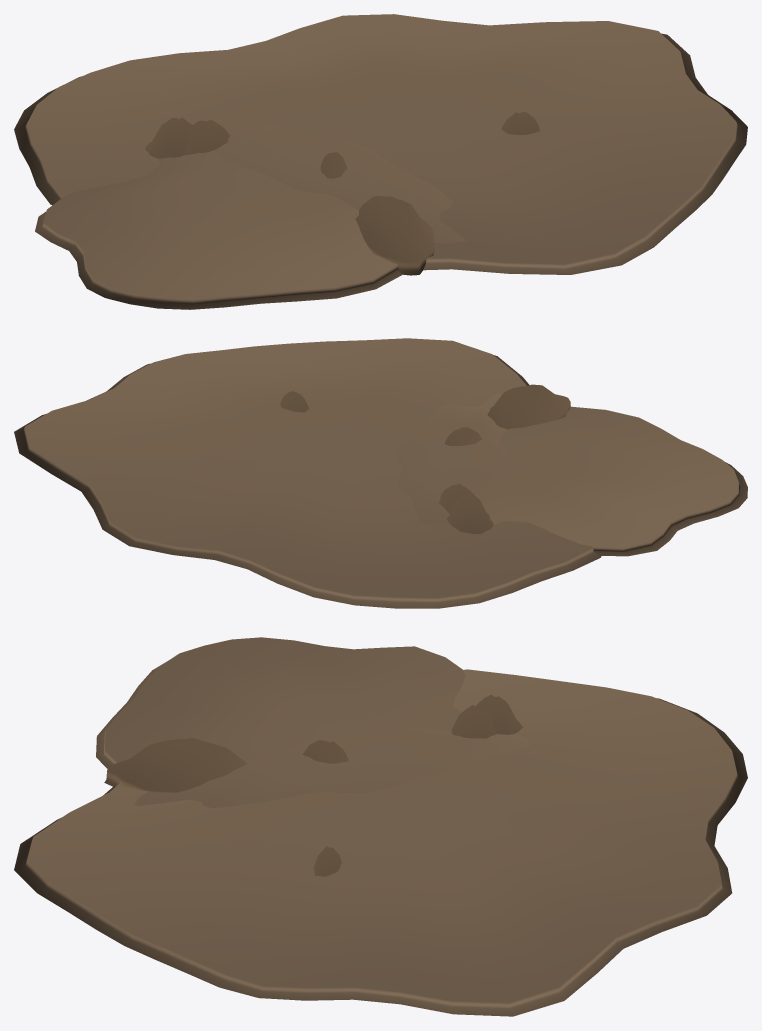
The model's file is dirt_9.glb.
3 renders of one model, top to bottom at view 1: azimuth 30°, elevation 25°; view 2: azimuth 150°, elevation 25°; view 3: azimuth 270°, elevation 25°, orthographic. The views are drawn at different scales.
Parts seen in each view (by area): view 1: dirt_9; view 2: dirt_9; view 3: dirt_9.
Boxes of the visible parts, x1,y1,x2,y2 form: dirt_9: [14, 14, 747, 309]; dirt_9: [14, 338, 747, 608]; dirt_9: [14, 637, 747, 1016].
Bounding box in the file's own units: 1.14 × 0.0685 × 0.9375.
